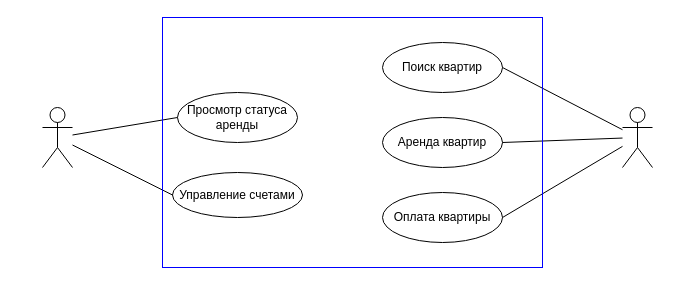
Image size: 674x285. Some labels were removed from this diagram. The box of each missing label's shape, as (x1, y1, x2, y2) in pixels:
Арендодатель: (42, 106, 72, 168)
Клиент: (622, 106, 652, 168)
